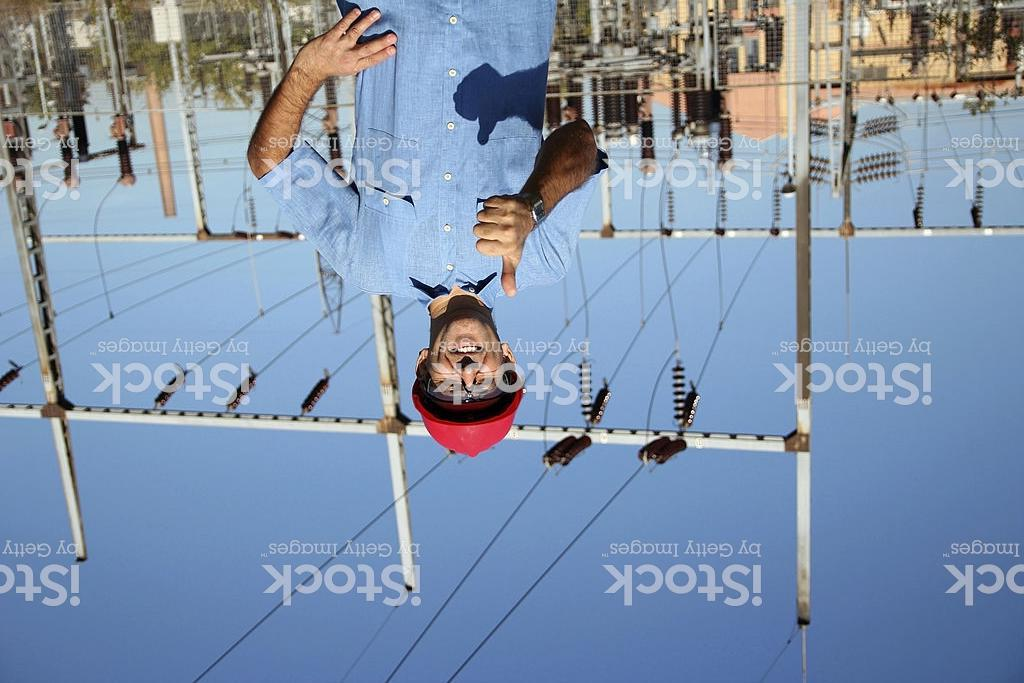thumbsdown: (471, 195, 520, 297)
